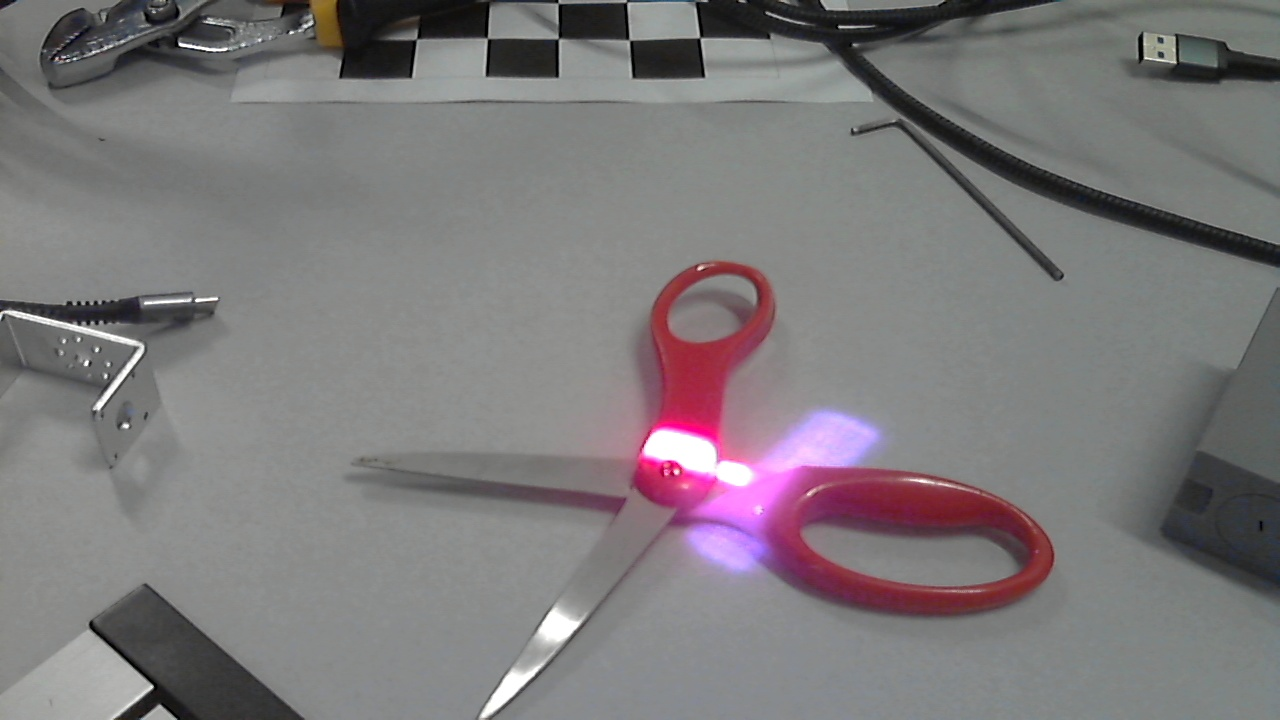Object scissors - Material plastic - Pdfname tYexGlkiIXWc: (638, 404, 809, 585)
